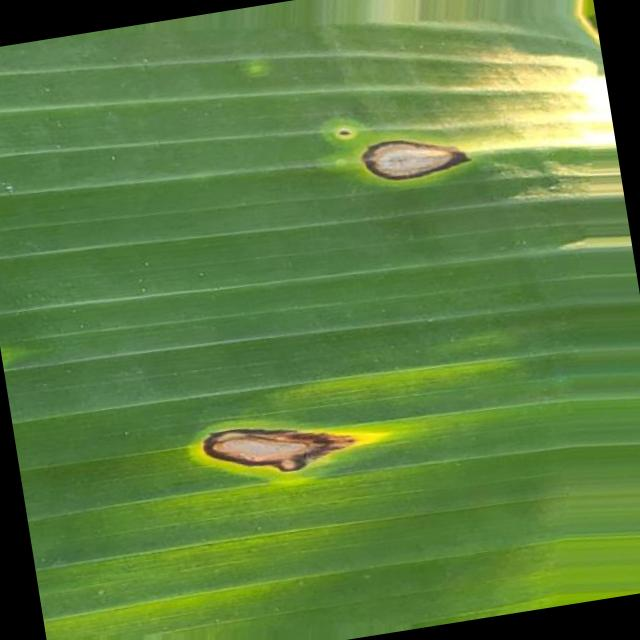Banana_Black_Sigatoka: (104, 357, 402, 562), (316, 85, 502, 231)
